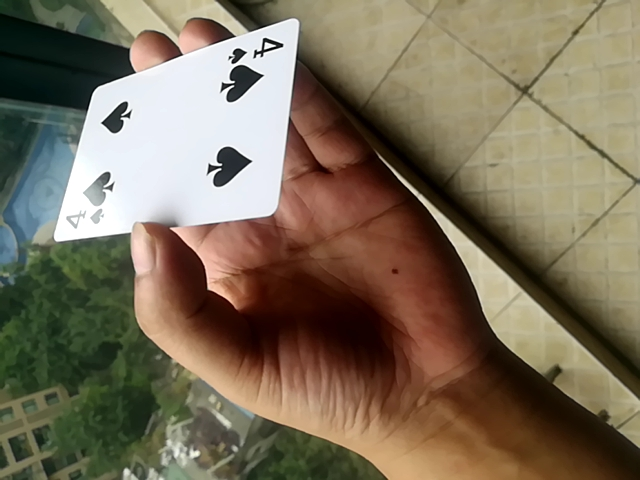ht 4: (50, 14, 299, 250)
